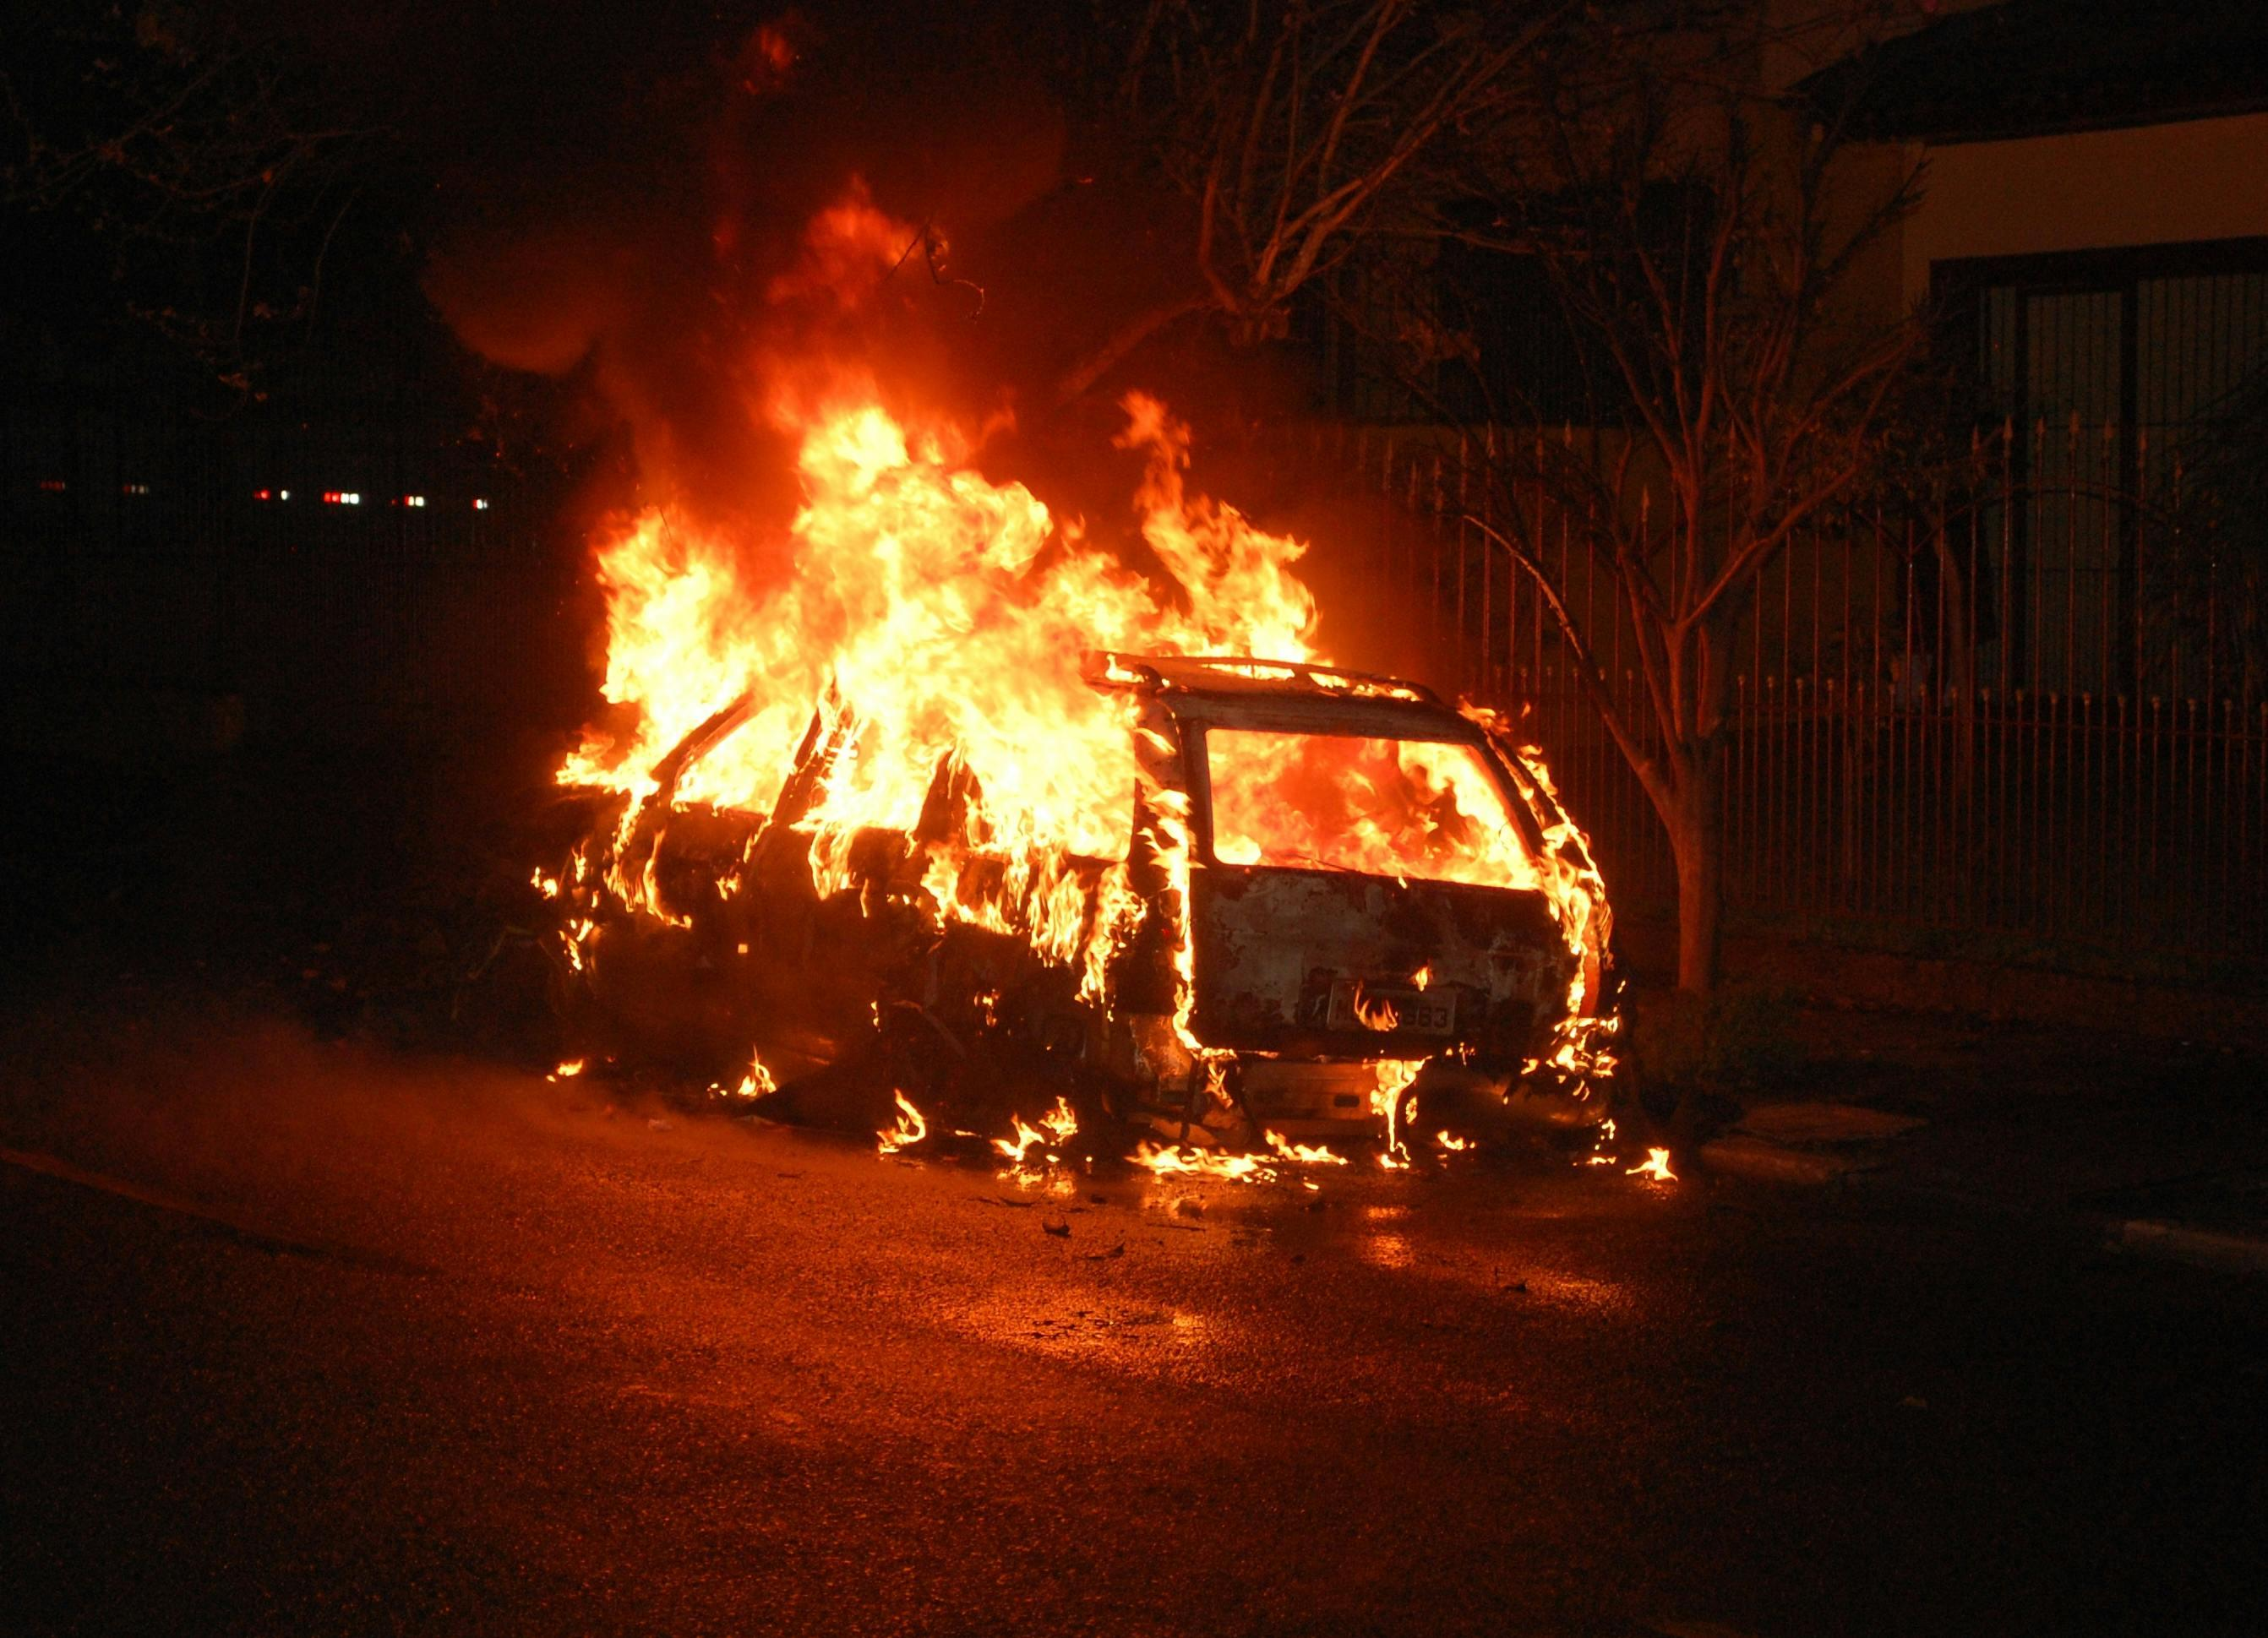smoke: (498, 375, 1683, 1205)
